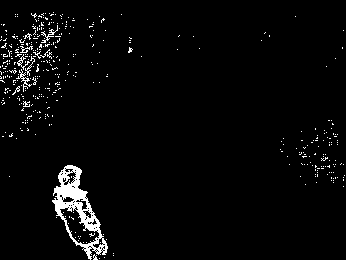person: (51, 161, 116, 258)
